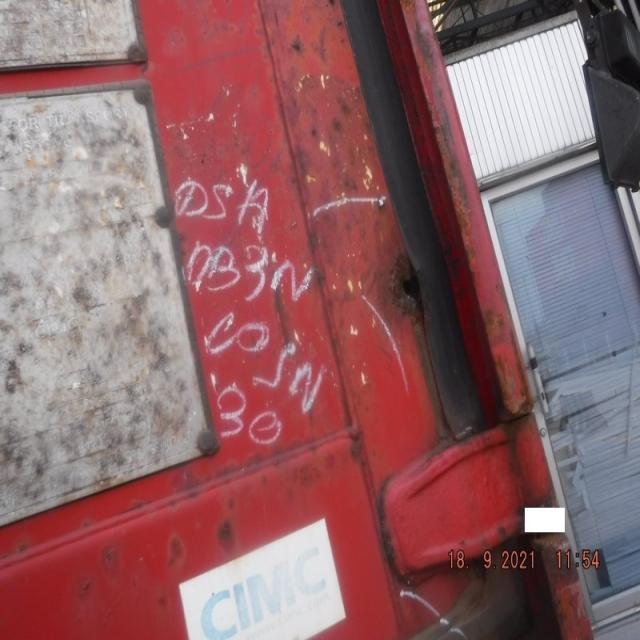hole: (390, 257, 425, 322)
